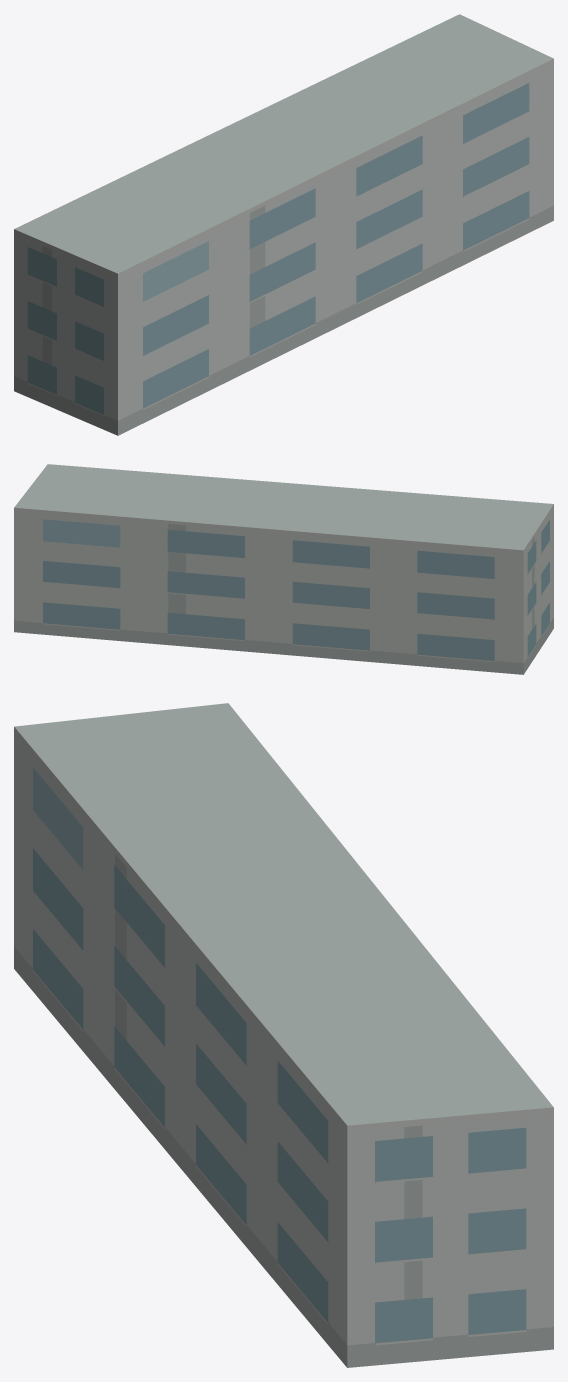
The model's file is residential-629d33fd-dc04-4c50-b171-474b3fb63b3c.glb.
3 renders of one model, top to bottom at view 1: azimuth 30°, elevation 25°; view 2: azimuth 150°, elevation 25°; view 3: azimuth 270°, elevation 25°, orthographic. The views are drawn at different scales.
Parts seen in each view (by area): view 1: residential-629d33fd-dc04-4c50-b171-474b3fb63b3c.tmp; view 2: residential-629d33fd-dc04-4c50-b171-474b3fb63b3c.tmp; view 3: residential-629d33fd-dc04-4c50-b171-474b3fb63b3c.tmp.
Part boxes in pixels (x1,y1,x2,y2): residential-629d33fd-dc04-4c50-b171-474b3fb63b3c.tmp: (14, 14, 553, 435); residential-629d33fd-dc04-4c50-b171-474b3fb63b3c.tmp: (14, 464, 553, 674); residential-629d33fd-dc04-4c50-b171-474b3fb63b3c.tmp: (14, 703, 553, 1367).
Size of the model in its own units: 34.26 by 9.15 by 18.49.
